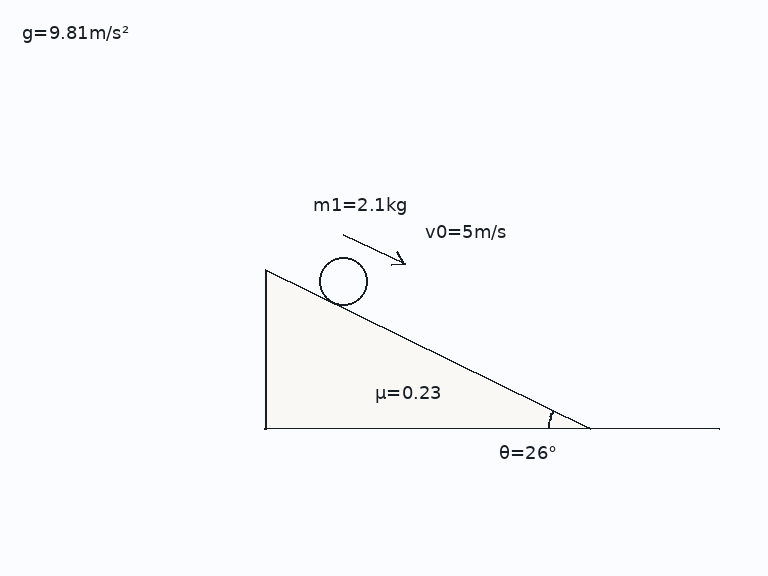ball: (317, 255, 369, 307)
ramp: (263, 268, 591, 430)
